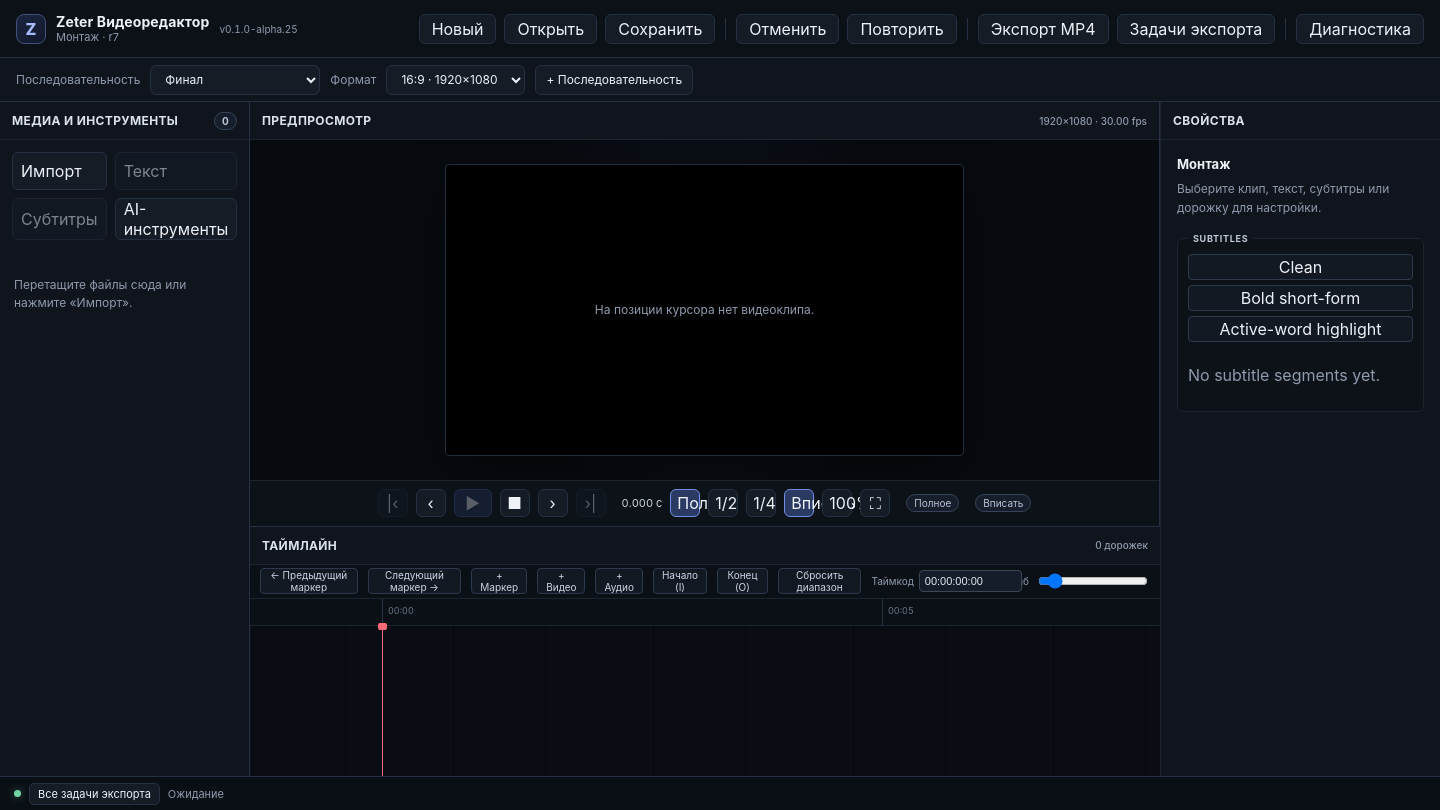
Test: ZVE-006 MP4 export UI › shows native completion from polling without inventing a running percentage
The width and height of the screenshot is (1440, 810).
Click the button "Экспорт MP4".
click(1043, 28)  # box [978,14,1108,44]
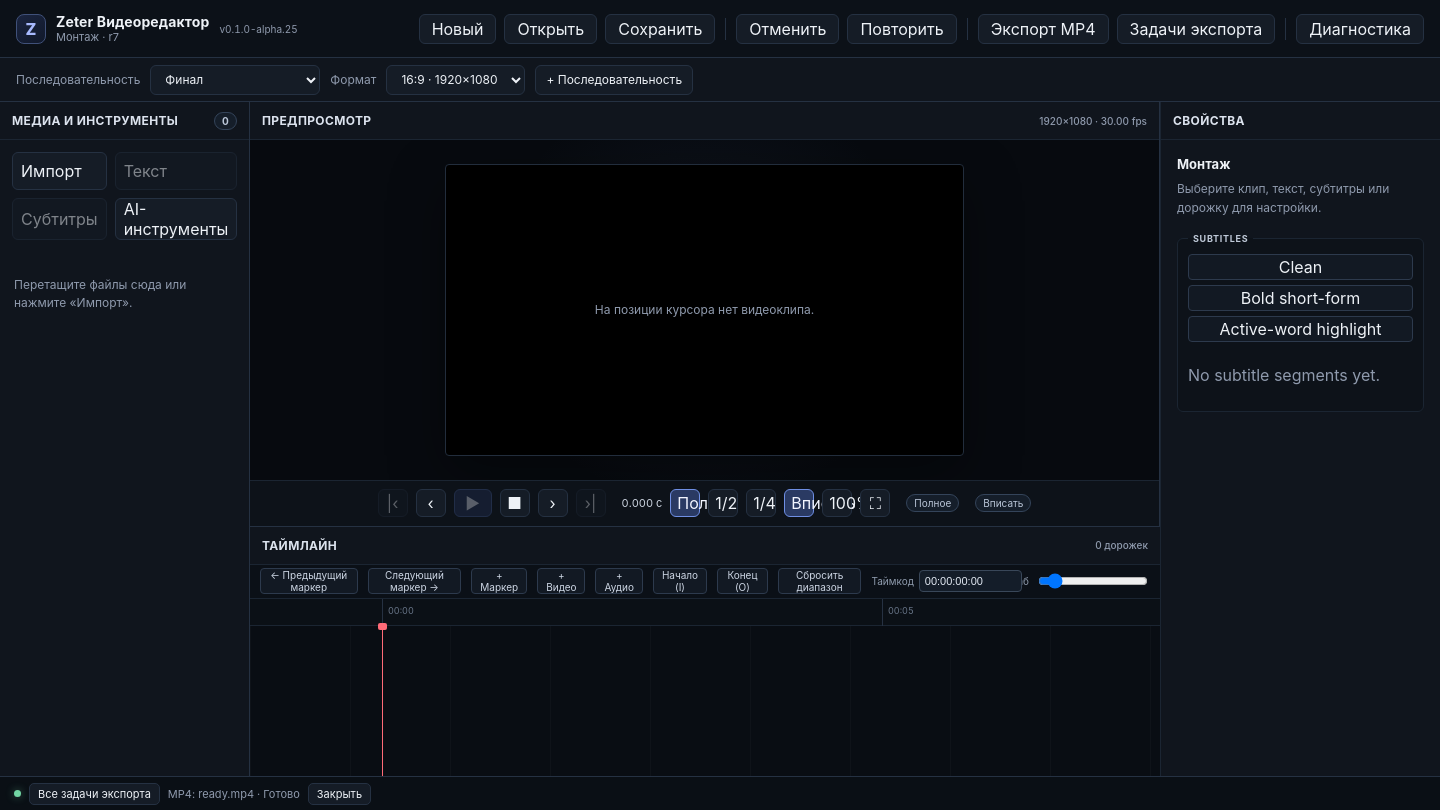
expect the text "MP4: ready.mp4 · Готово" is shown: met, box [168,786,300,800]
